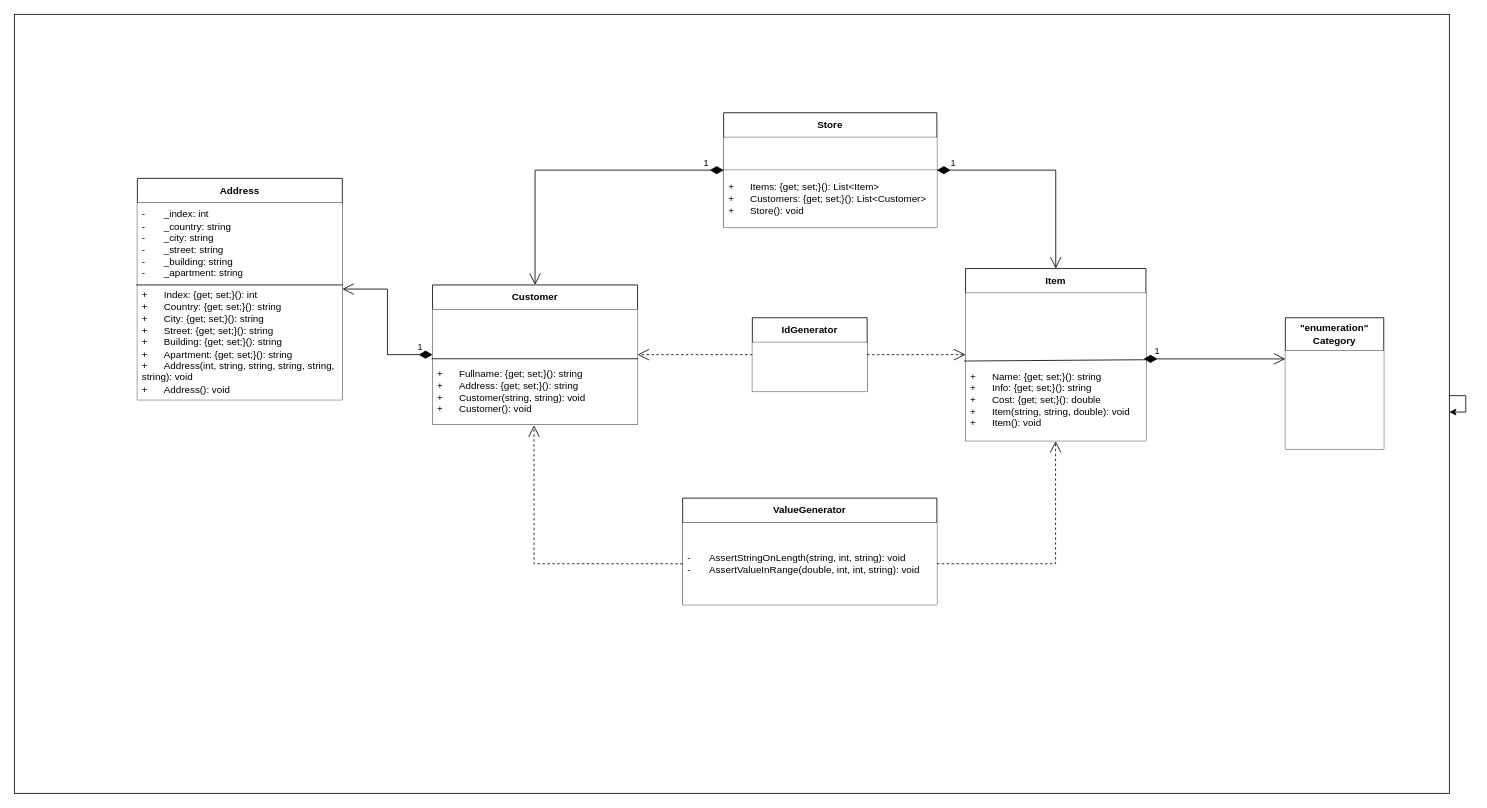
This 1487x808 diagram has some shape labels left out. The shapes that lost their labels are listed below. From the top down, each one's centre as x and y in pixels, then its label:
At point 829,153: "- _items: List<Item> - _customers: List<Customer>".
At point 534,333: "- _id: readonly int - _fullname: string - _address: string".
At point 1055,325: "- _id: readonly int - _name: string - _info: string - _cost: double".
At point 809,354: "- _nextId: int".
At point 809,379: "- GetNextId(): int".
At point 1334,399: "Medicine Clothing Products Technique Chancellery Books Groceries".
